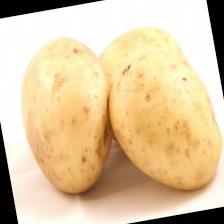potato: (8, 28, 128, 202), (98, 38, 224, 203)
